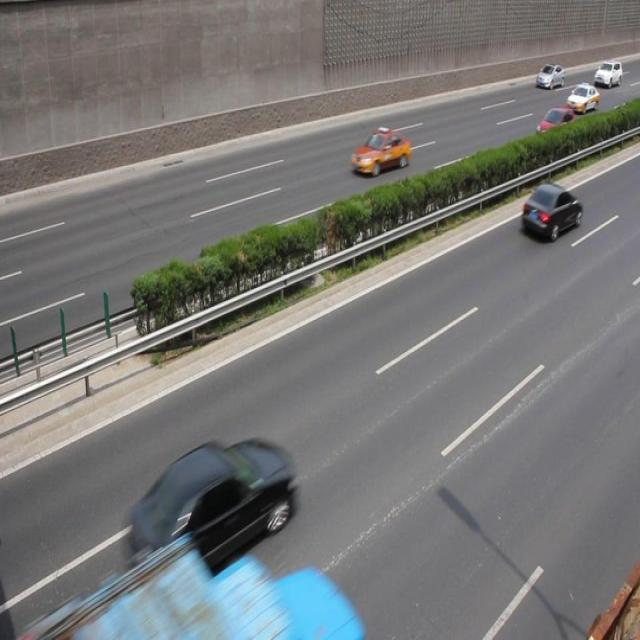bus: (28, 533, 356, 640)
car: (120, 434, 294, 588), (520, 182, 583, 245), (349, 126, 410, 176), (533, 105, 576, 146), (564, 82, 598, 115), (535, 62, 564, 90)
